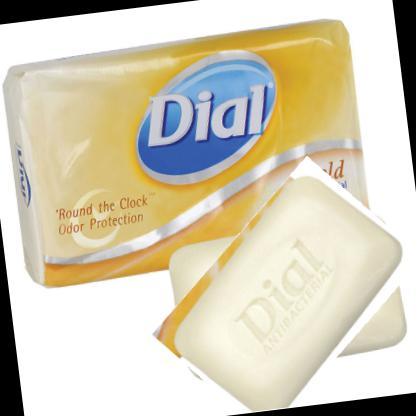soap: (146, 173, 415, 415)
